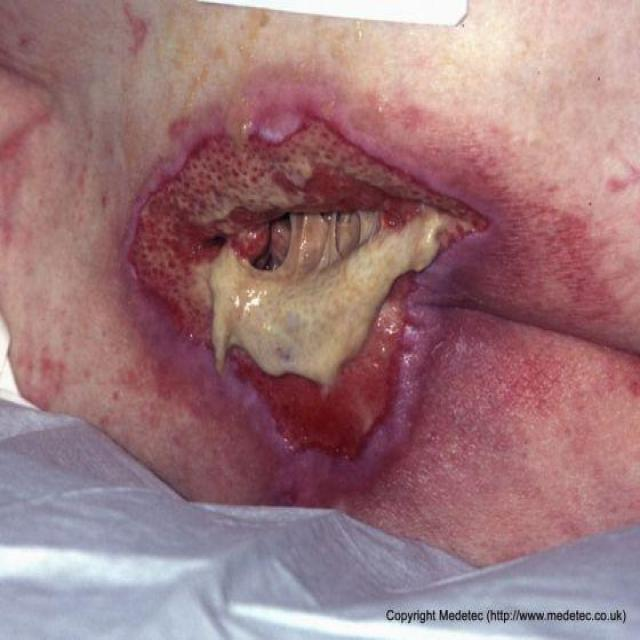Unstageable: (130, 120, 486, 458)
